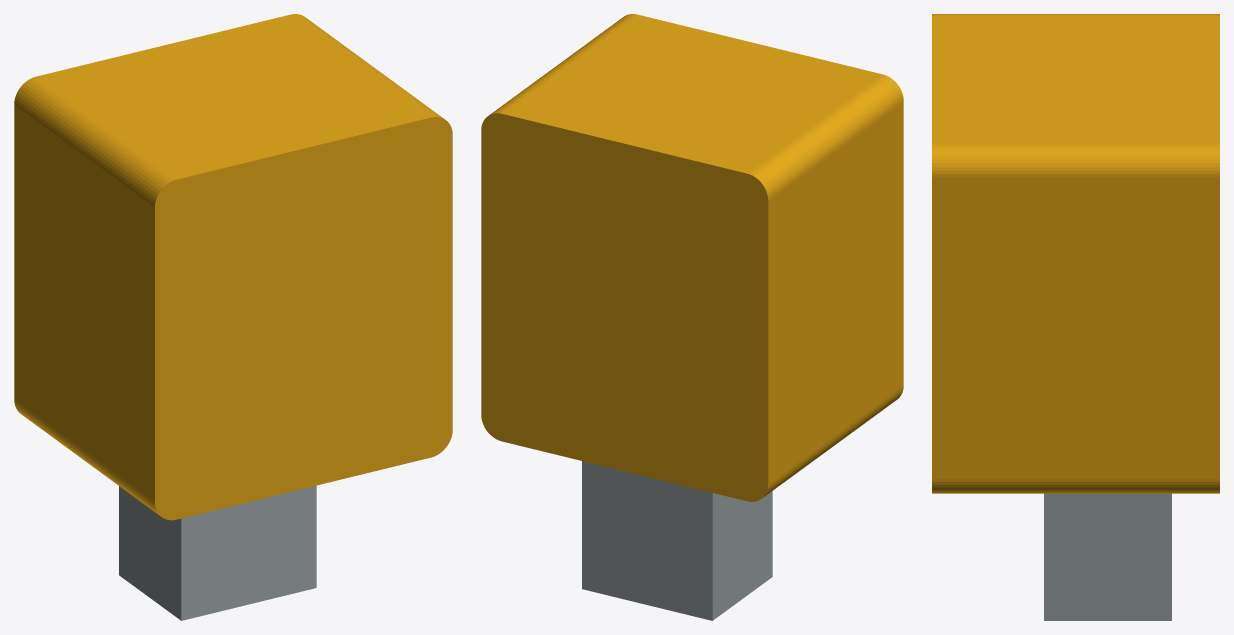
Rendered from picker_z_link.obj.
3 renders of one model, left to right at view 1: azimuth 30°, elevation 25°; view 2: azimuth 150°, elevation 25°; view 3: azimuth 270°, elevation 25°, orthographic. The views are drawn at different scales.
Parts seen in each view (by area): view 1: head_0, reach_guide_1; view 2: head_0, reach_guide_1; view 3: head_0, reach_guide_1.
Boxes of the visible parts, <box> form: head_0: <box>14,14,452,520</box>; reach_guide_1: <box>119,485,316,620</box>; head_0: <box>481,14,903,501</box>; reach_guide_1: <box>582,461,772,620</box>; head_0: <box>932,14,1219,493</box>; reach_guide_1: <box>1044,493,1171,620</box>.
Size of the model in its own units: 0.11 by 0.175 by 0.09.
